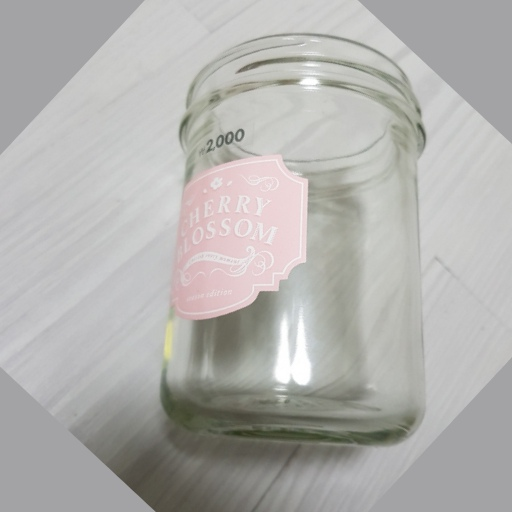Glass_5: (158, 41, 431, 444)
